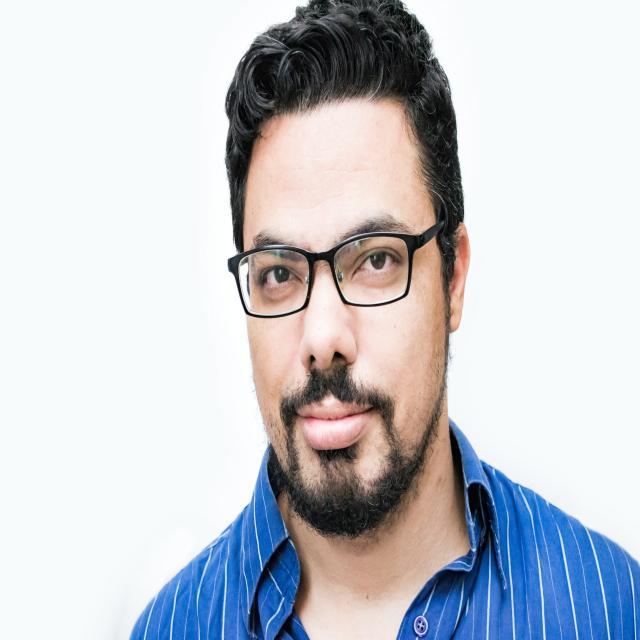adult: (120, 0, 632, 640)
